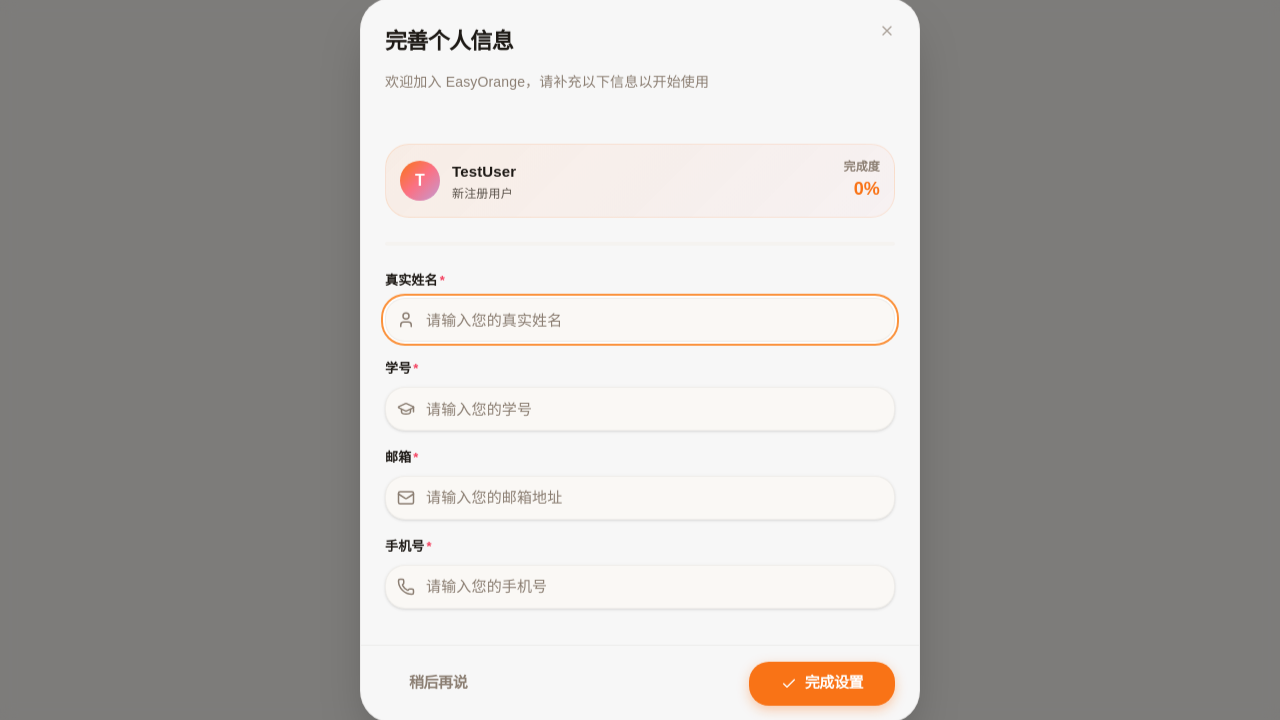
it: ProfileSetupModal › updates progress as fields are filled
Type "张三" into the field with placeholder "请输入您的真实姓名".
click(640, 320); type("张三")  # box [385,298,895,342]
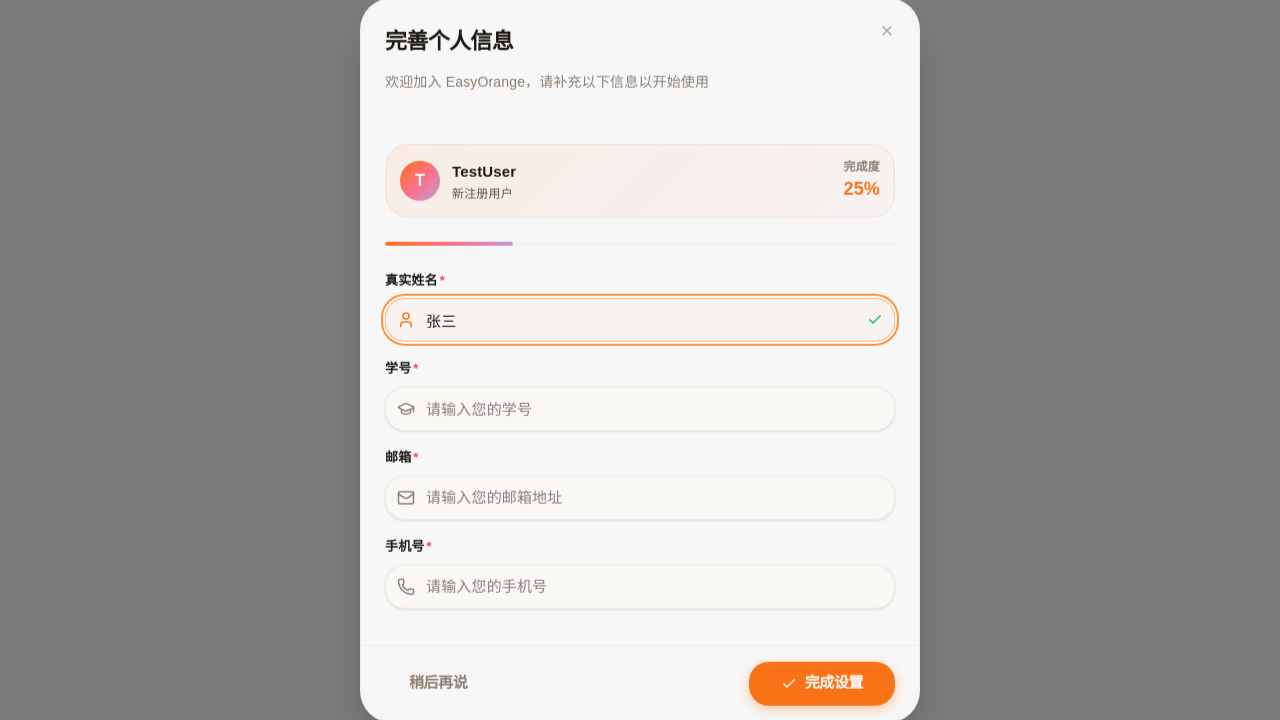
expect the text "25%" is shown: met, box [844,174,880,202]
Type "12345" into the field with placeholder "请输入您的学号".
click(640, 409); type("12345")  # box [385,387,895,431]
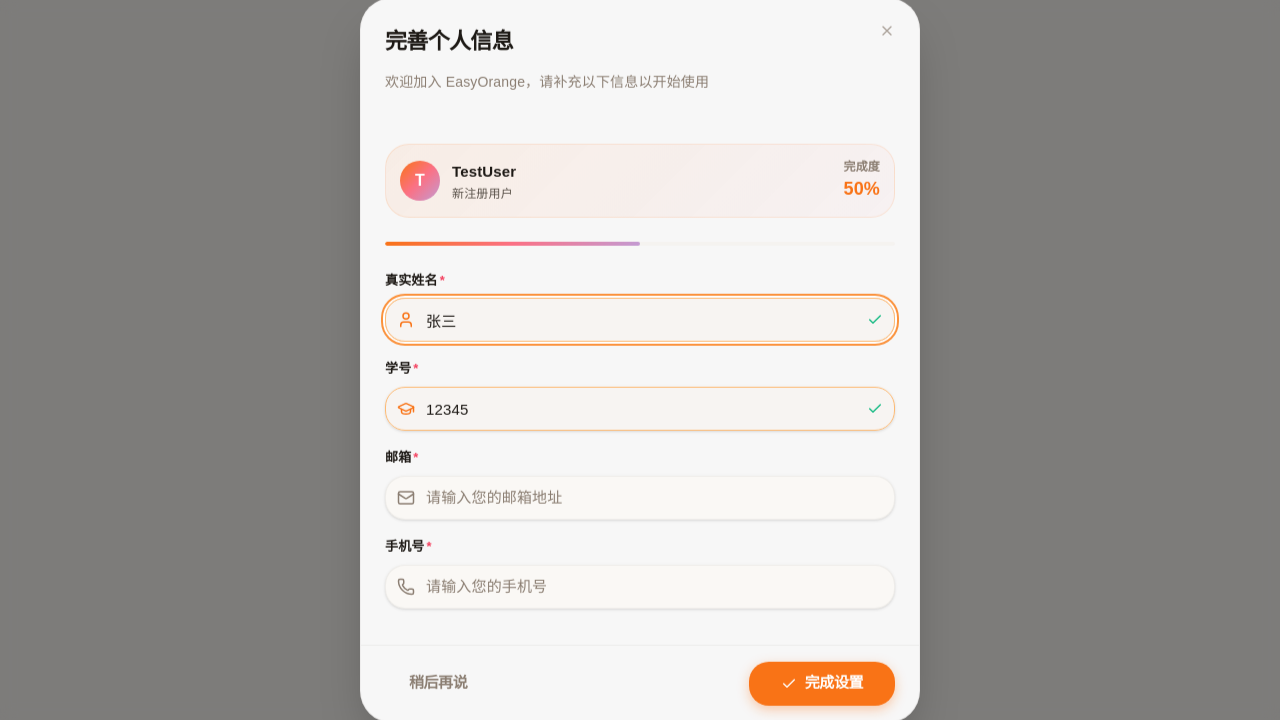
expect the text "50%" is shown: met, box [844,174,880,202]
Type "test@test.com" into the field with placeholder "请输入您的邮箱地址".
click(640, 498); type("test@test.com")  # box [385,476,895,520]
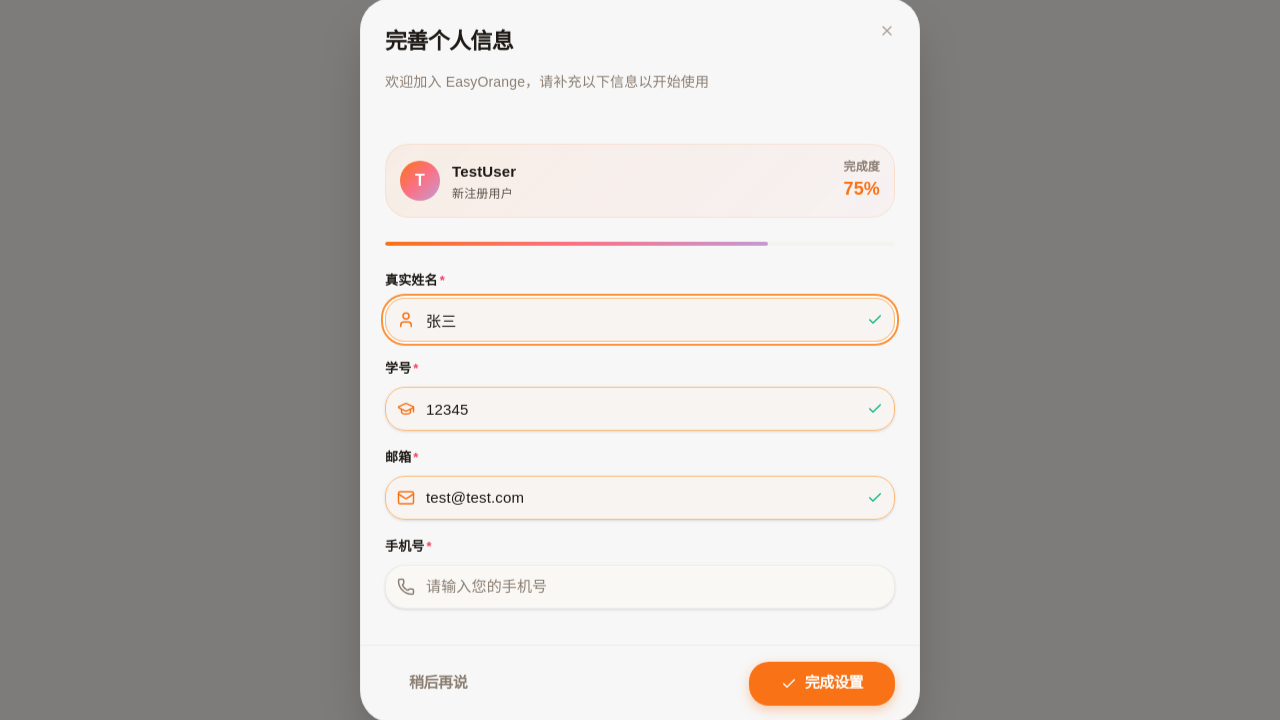
expect the text "75%" is shown: met, box [844,174,880,202]
Type "13800138000" into the field with placeholder "请输入您的手机号".
click(640, 586); type("13800138000")  # box [385,564,895,608]
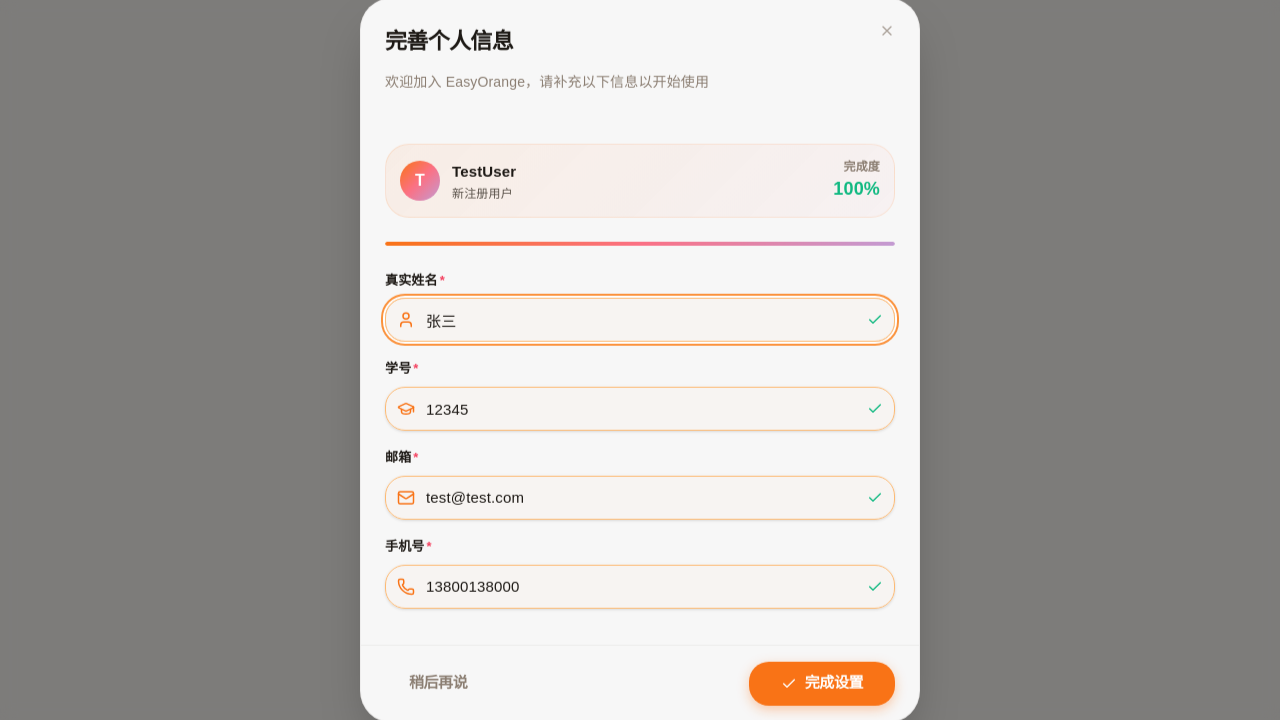
expect the text "100%" is shown: met, box [833,174,880,202]
